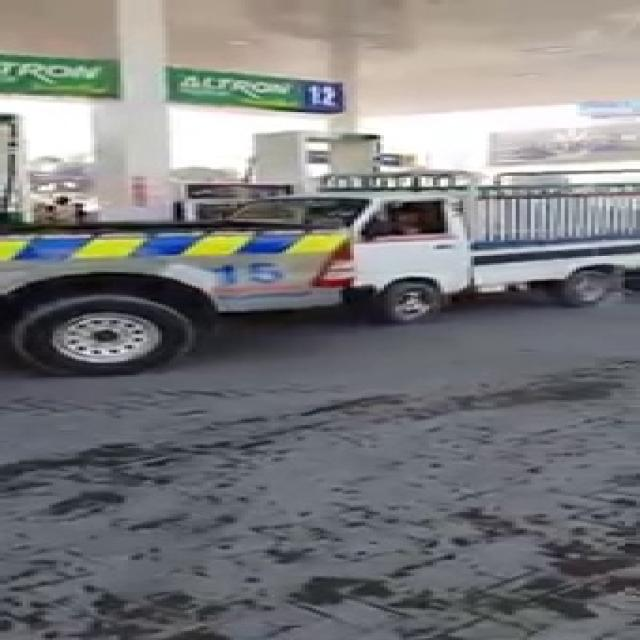police: (0, 188, 360, 386)
